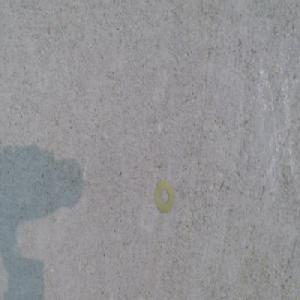Washer: (153, 179, 175, 213)
